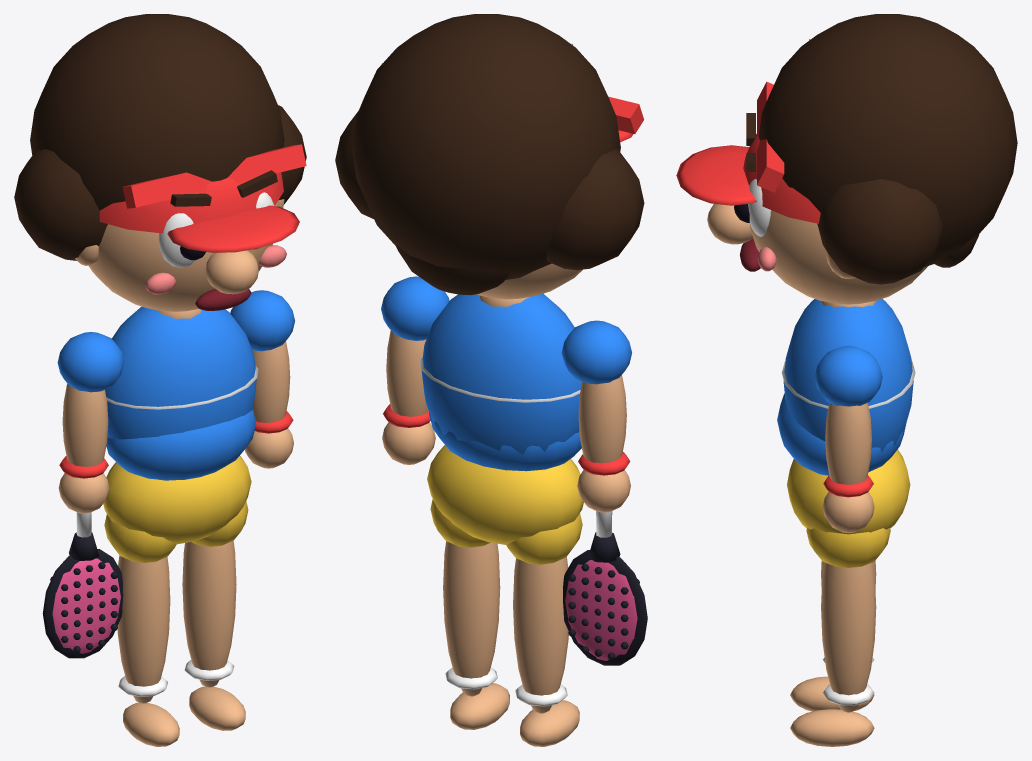
File: character.glb
The picture shows the model from 3 angles, left to right: view 1: azimuth 30°, elevation 25°; view 2: azimuth 150°, elevation 25°; view 3: azimuth 270°, elevation 25°; orthographic projection. The views are drawn at different scales.
Visible parts, largest first — view 1: Hair_Afro, Torso, Head, Hips, LegL, ArmR, LegR, Cap, Racket, ArmL; view 2: Hair_Afro, Torso, Hips, LegL, ArmR, LegR, Racket, ArmL, Hair_Bun, Head; view 3: Hair_Afro, Torso, Head, LegL, ArmL, Hips, Cap, LegR.
Part boxes in pixels (x1,y1,x2,y2): Hair_Afro: (14, 14, 306, 260); Torso: (105, 306, 258, 480); Head: (75, 170, 286, 311); Hips: (103, 456, 251, 562); LegL: (182, 540, 245, 730); ArmR: (57, 332, 124, 513); LegR: (117, 555, 179, 746); Cap: (99, 172, 299, 252); Racket: (42, 512, 123, 658); ArmL: (230, 290, 294, 468); Hair_Afro: (335, 14, 644, 279); Torso: (419, 293, 581, 471); Hips: (427, 445, 583, 564); LegL: (443, 541, 509, 729); ArmR: (561, 320, 631, 512); LegR: (513, 557, 579, 746); Racket: (563, 511, 647, 665); ArmL: (381, 276, 449, 464); Hair_Bun: (396, 245, 509, 295); Head: (476, 263, 582, 299); Hair_Afro: (757, 14, 1017, 284); Torso: (777, 299, 915, 475); Head: (707, 113, 927, 304); LegL: (790, 562, 876, 746); ArmL: (814, 345, 882, 533); Hips: (787, 449, 910, 567); Cap: (676, 132, 820, 223); LegR: (790, 560, 876, 711).
Bounding box in the file's own units: 1 × 2.39 × 1.05.
